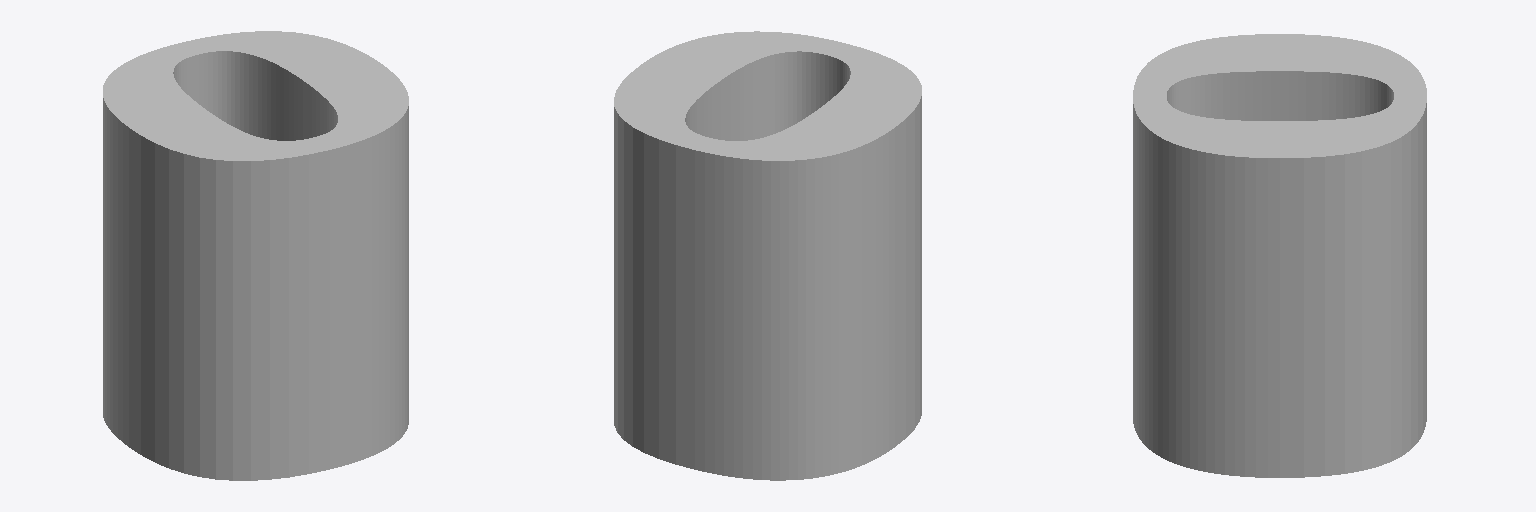
The picture shows the model from 3 angles: view 1: azimuth 30°, elevation 25°; view 2: azimuth 150°, elevation 25°; view 3: azimuth 270°, elevation 25°; orthographic projection.
Visible parts, largest first — view 1: obj_0; view 2: obj_0; view 3: obj_0.
Boxes of the visible parts, <box> form: obj_0: <box>103,31,408,480</box>; obj_0: <box>614,31,921,480</box>; obj_0: <box>1133,34,1426,477</box>.
Bounding box in the file's own units: 5 × 5.99 × 5.